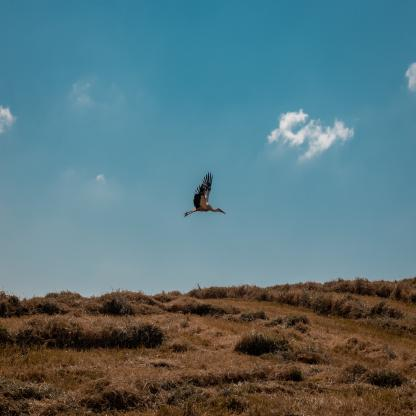bird: (183, 170, 226, 218)
